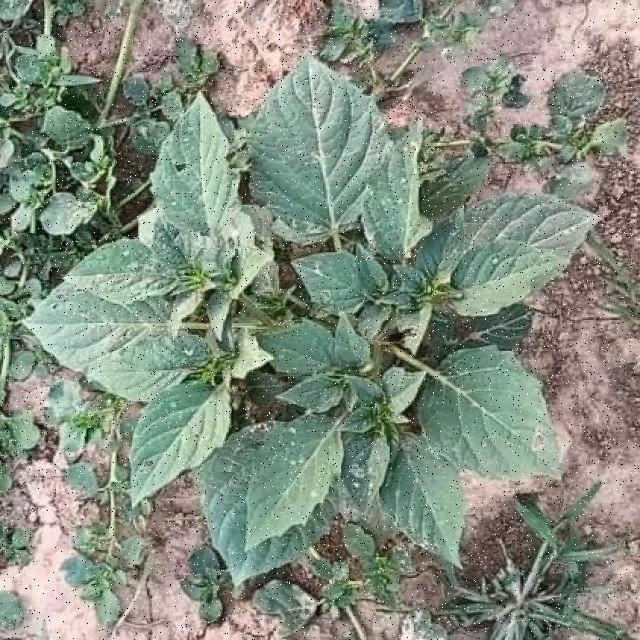weed: (24, 55, 601, 589)
